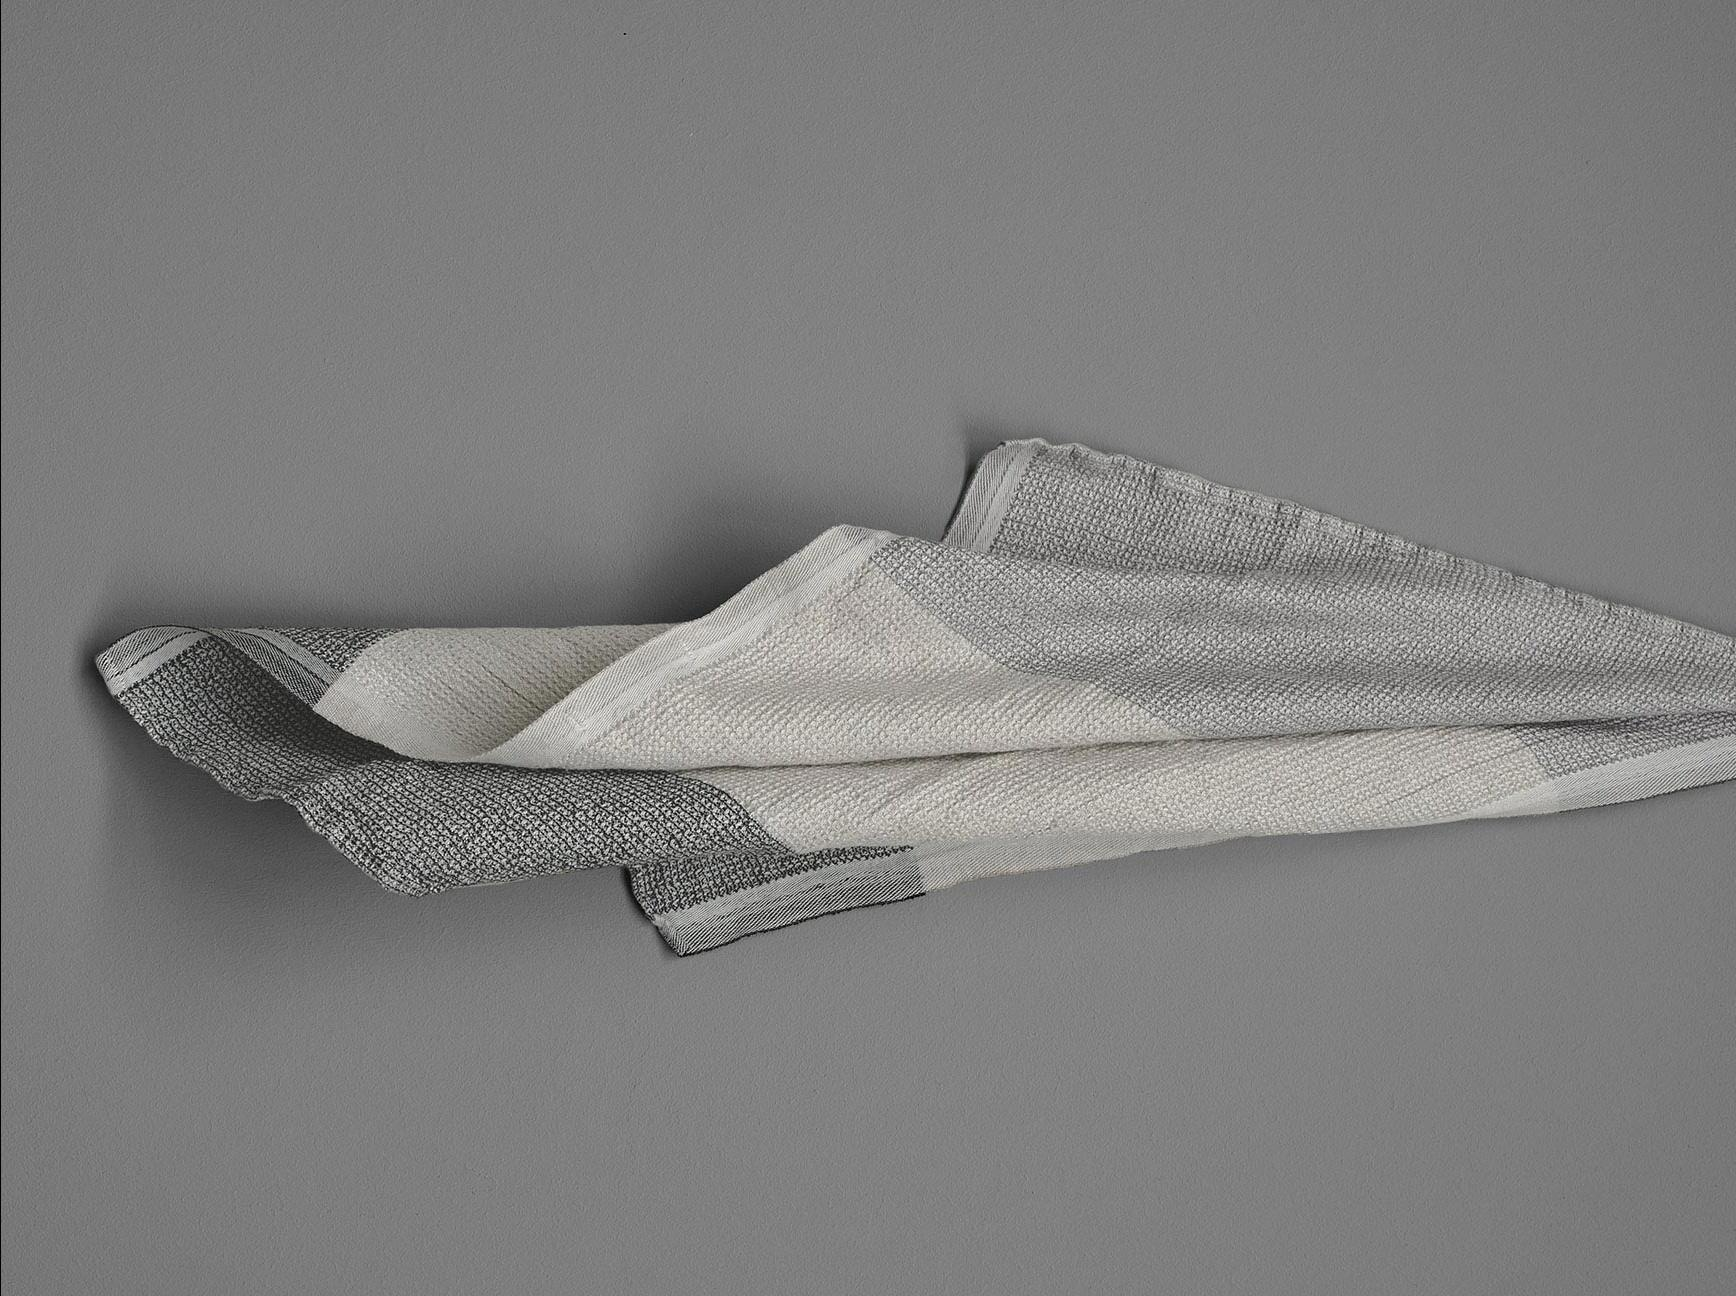towel: (0, 410, 1736, 1056)
